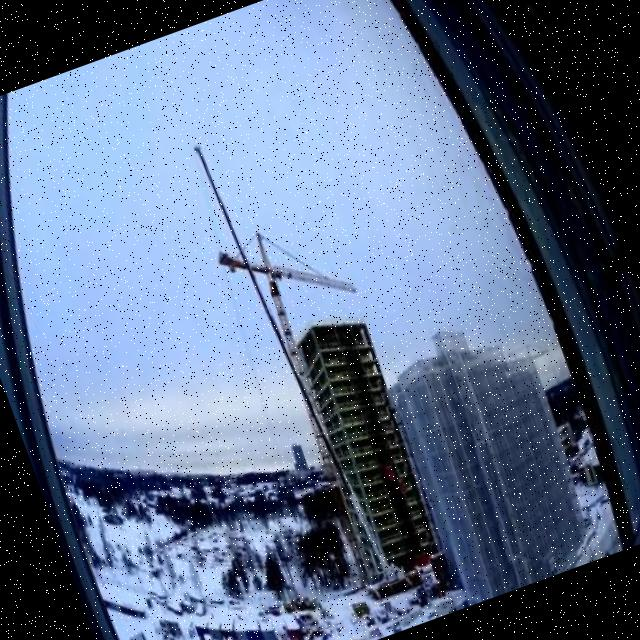Mobile Crane: (192, 124, 422, 609)
